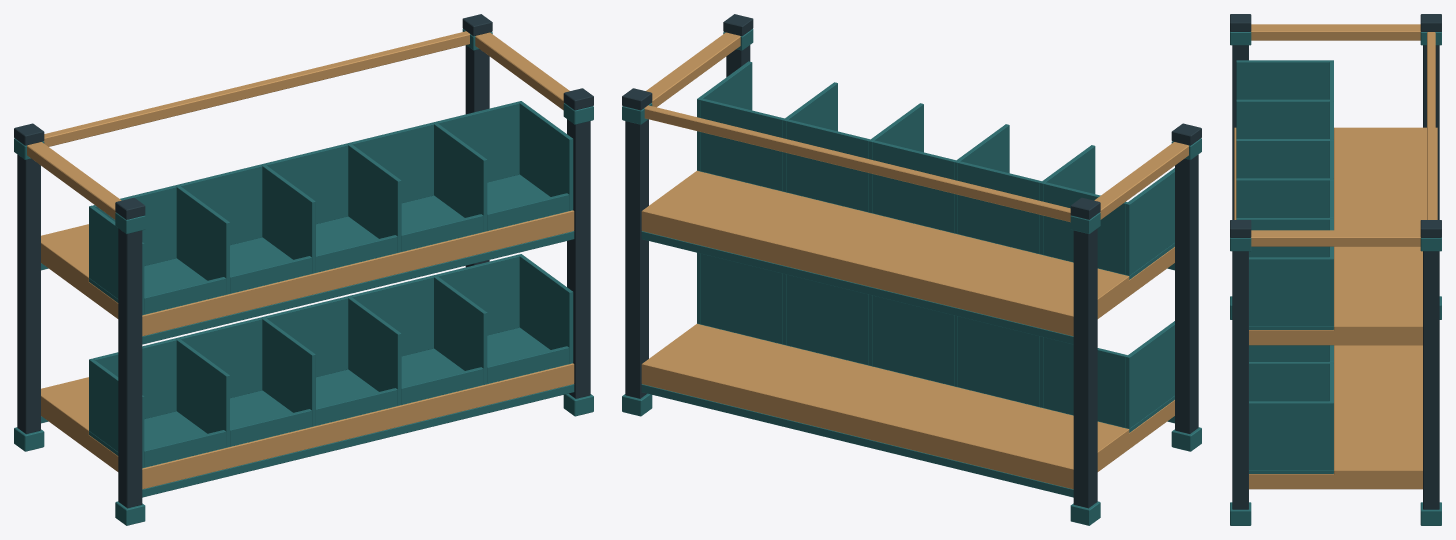
The model's file is rack-small.glb.
3 views of the same model, side by side, from view 1: azimuth 30°, elevation 25°; view 2: azimuth 150°, elevation 25°; view 3: azimuth 270°, elevation 25° (orthographic). The views are drawn at different scales.
Parts seen in each view (by area): view 1: rack-small__batch_00, rack-small__batch_01, rack-small__batch_02; view 2: rack-small__batch_00, rack-small__batch_01, rack-small__batch_02; view 3: rack-small__batch_01, rack-small__batch_00, rack-small__batch_02.
Boxes of the visible parts, x1,y1,x2,y2 form: rack-small__batch_00: [14, 29, 593, 525]; rack-small__batch_01: [27, 31, 574, 489]; rack-small__batch_02: [14, 14, 593, 508]; rack-small__batch_00: [622, 29, 1201, 525]; rack-small__batch_01: [641, 32, 1188, 489]; rack-small__batch_02: [622, 14, 1201, 508]; rack-small__batch_01: [1234, 24, 1437, 489]; rack-small__batch_00: [1230, 32, 1441, 525]; rack-small__batch_02: [1230, 14, 1441, 509].
Bounding box in the file's own units: 2.4 × 1.55 × 1.
